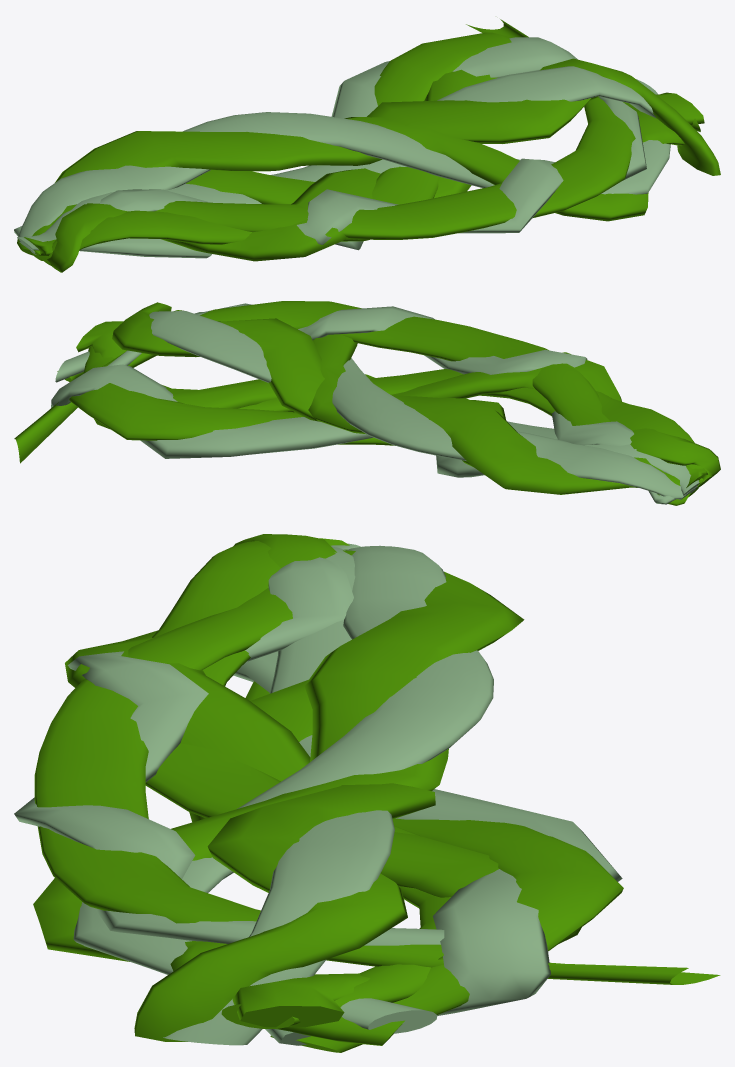
Rendered from Halteranken.fbx.
The picture shows the model from 3 angles, top to bottom: view 1: azimuth 30°, elevation 25°; view 2: azimuth 150°, elevation 25°; view 3: azimuth 270°, elevation 25°; orthographic projection. The views are drawn at different scales.
Visible parts, largest first — view 1: Halteranken; view 2: Halteranken; view 3: Halteranken.
Boxes of the visible parts, x1,y1,x2,y2 form: Halteranken: [14, 19, 720, 272]; Halteranken: [14, 301, 720, 505]; Halteranken: [14, 534, 720, 1052].
Size of the model in its own units: 1721 by 206 by 1125.
